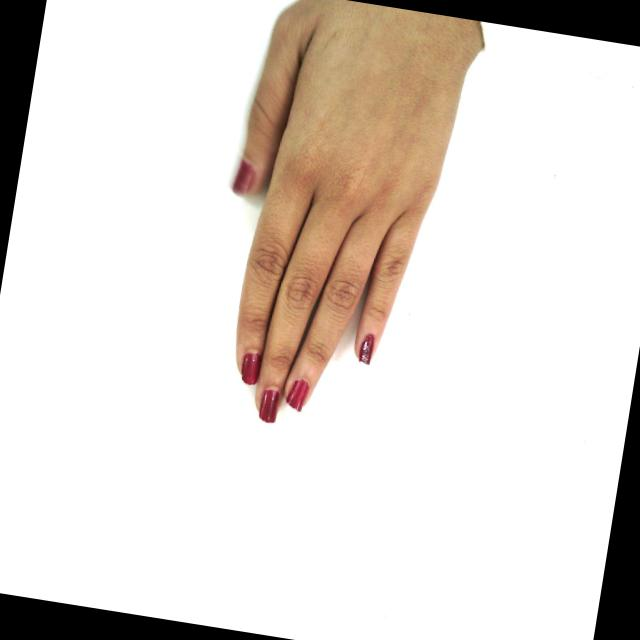Nail: (232, 157, 256, 195), (286, 379, 310, 412), (259, 389, 279, 423), (242, 353, 262, 385), (359, 334, 375, 365)
